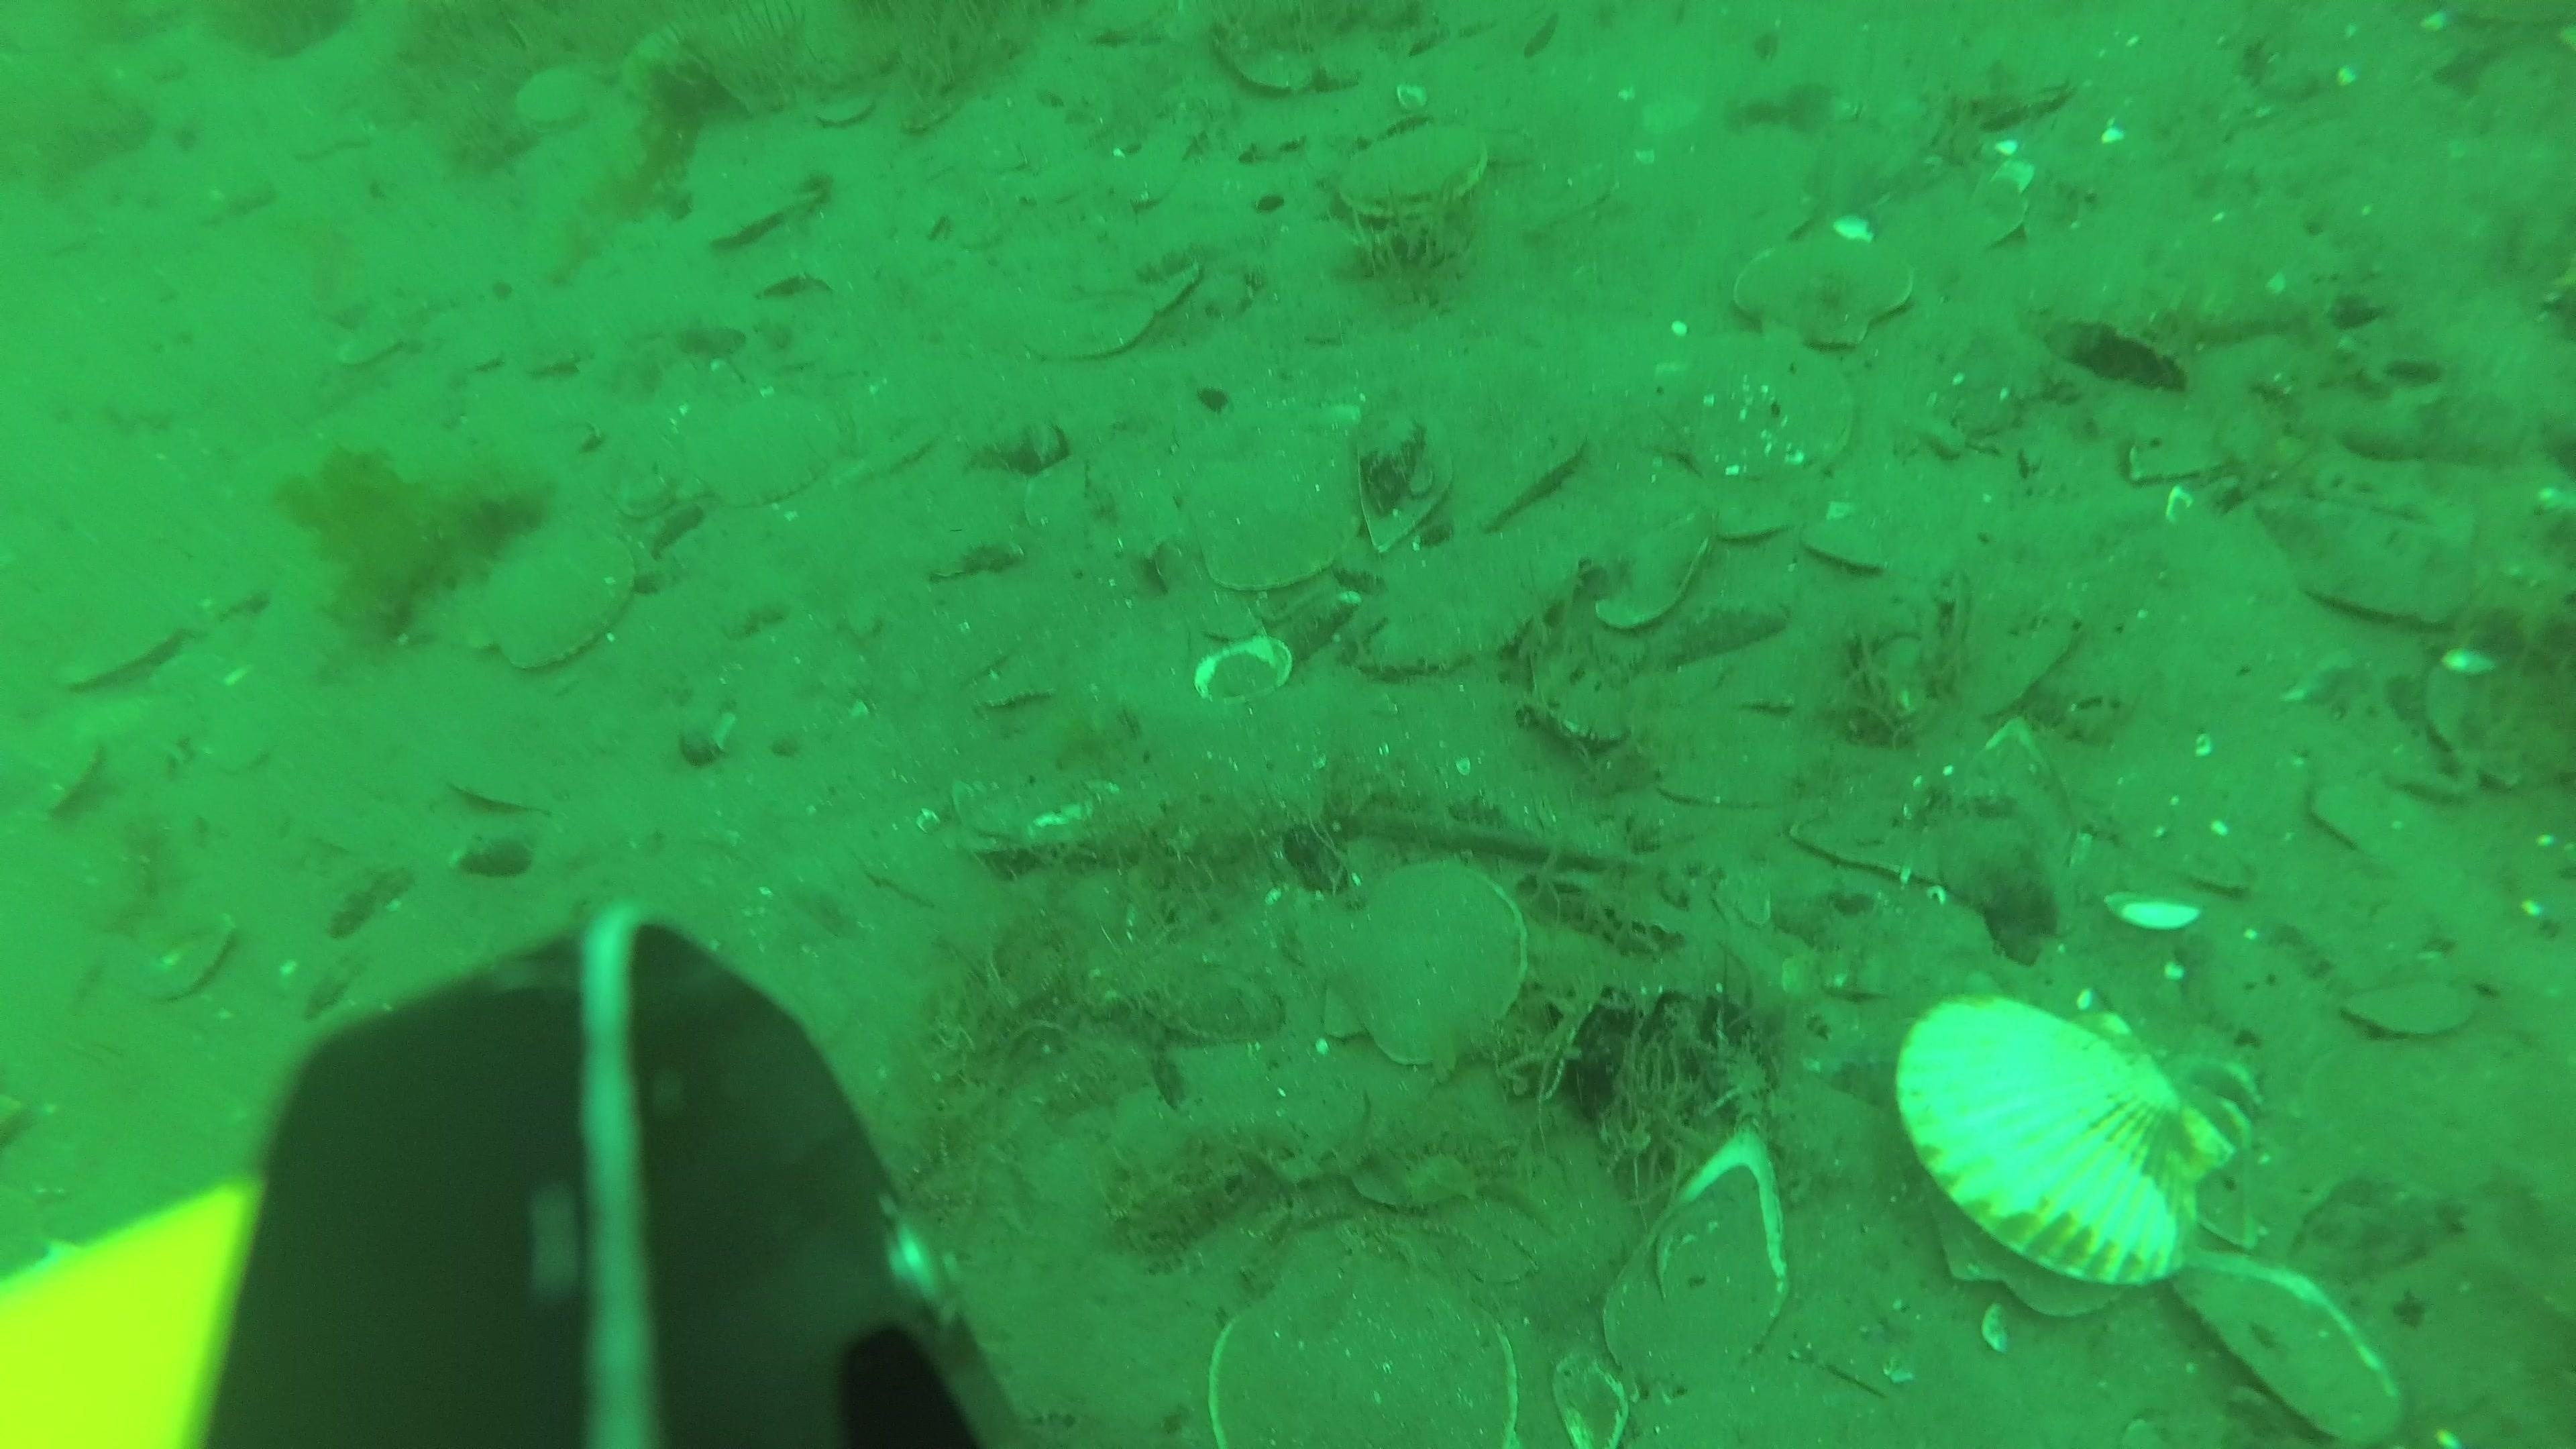scallop: (1888, 991, 2259, 1313), (1205, 1237, 1520, 1447), (1318, 858, 1532, 1072), (2252, 469, 2482, 630), (1660, 329, 1856, 490), (1184, 439, 1359, 598), (478, 525, 639, 672), (1732, 228, 1918, 352), (1582, 478, 1720, 633), (678, 389, 847, 511), (1336, 119, 1493, 228), (1454, 416, 1596, 533), (55, 594, 207, 695), (1203, 5, 1343, 97), (699, 161, 833, 253), (1948, 42, 2082, 127), (2337, 966, 2477, 1042), (511, 62, 617, 140)
